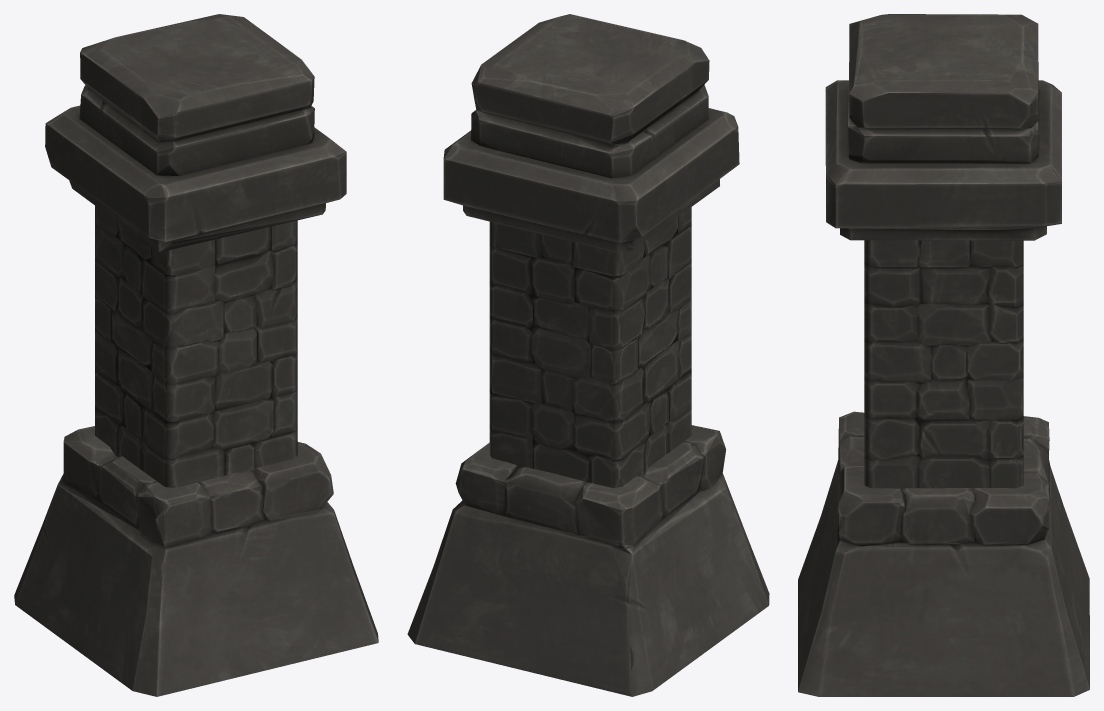
File: Column1.fbx
3 renders of one model, left to right at view 1: azimuth 30°, elevation 25°; view 2: azimuth 150°, elevation 25°; view 3: azimuth 270°, elevation 25°, orthographic. The views are drawn at different scales.
Parts seen in each view (by area): view 1: polySurface188; view 2: polySurface188; view 3: polySurface188.
Boxes of the visible parts, bbox=[...] form: polySurface188: bbox=[14, 14, 378, 696]; polySurface188: bbox=[407, 14, 769, 696]; polySurface188: bbox=[798, 14, 1089, 696].
Size of the model in its own units: 2.45 by 5.45 by 2.45.
